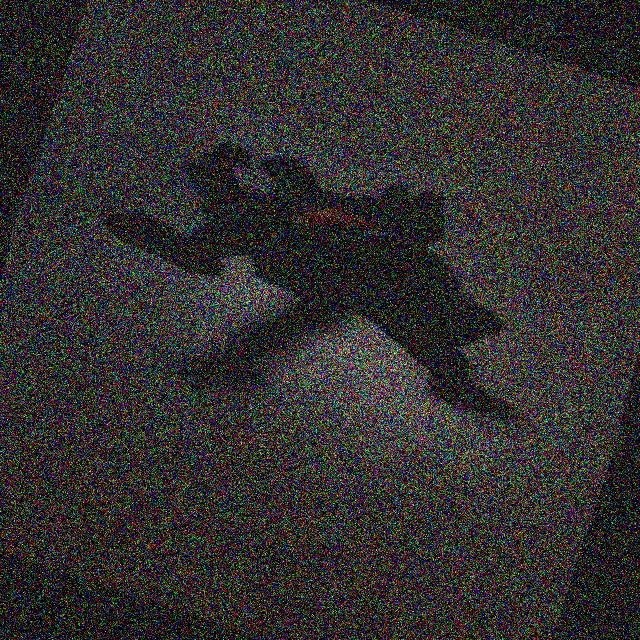Batman: (93, 90, 547, 374)
